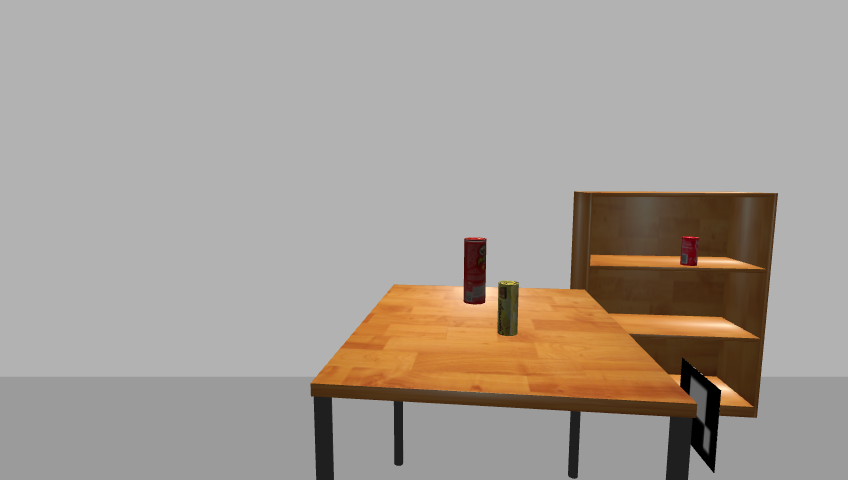aruco marker: (677, 359, 724, 473)
biscuits pack: (498, 281, 520, 337)
bookshelf: (566, 187, 788, 434)
coke can: (679, 236, 700, 266)
dinner table: (306, 281, 701, 480)
pringles can: (461, 236, 488, 306)
